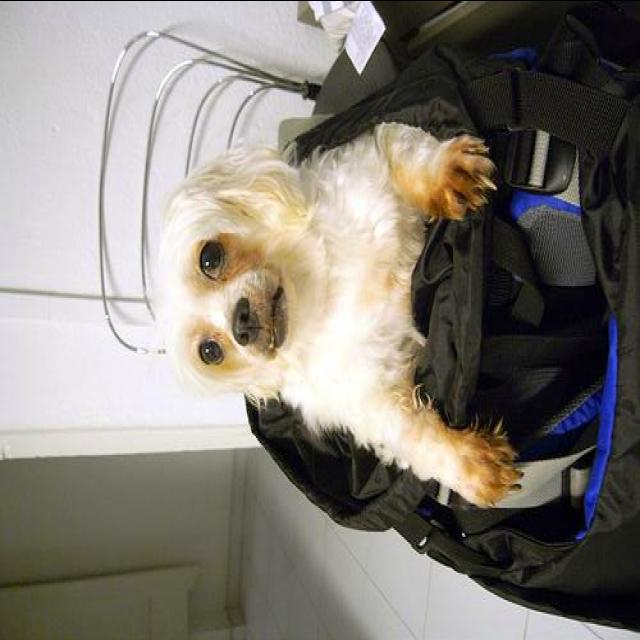shih_tzu: (153, 123, 524, 507)
